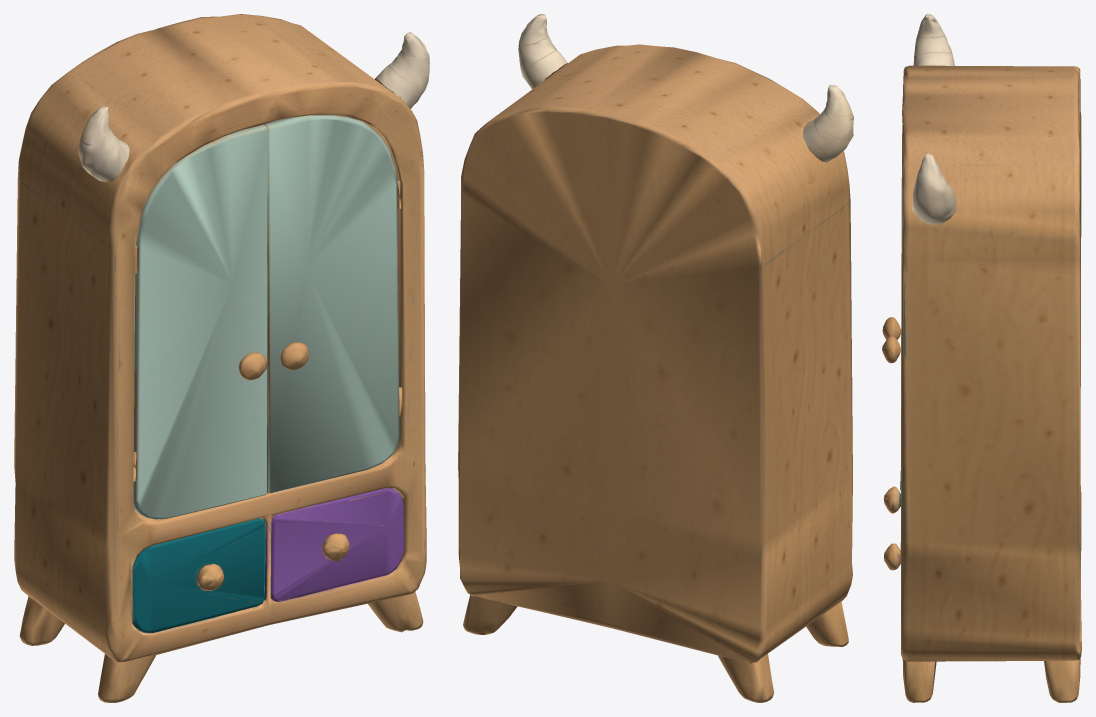
File: wardrobe.glb
3 renders of one model, left to right at view 1: azimuth 30°, elevation 25°; view 2: azimuth 150°, elevation 25°; view 3: azimuth 270°, elevation 25°, orthographic. The views are drawn at different scales.
Visible parts, largest first — view 1: Mesh_0; view 2: Mesh_0; view 3: Mesh_0.
Boxes of the visible parts, left/top/right/bottom form: Mesh_0: left=14, top=14, right=429, bottom=702; Mesh_0: left=458, top=14, right=853, bottom=702; Mesh_0: left=882, top=14, right=1081, bottom=702.
Size of the model in its own units: 1.11 by 1.8 by 0.5977.
Materials: 1 (1 with a texture image).
